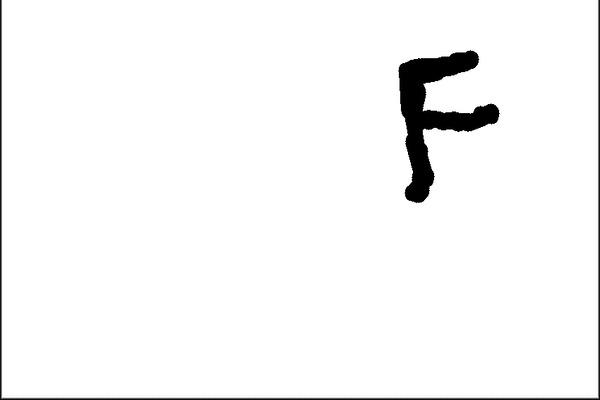F: (393, 46, 502, 207)
